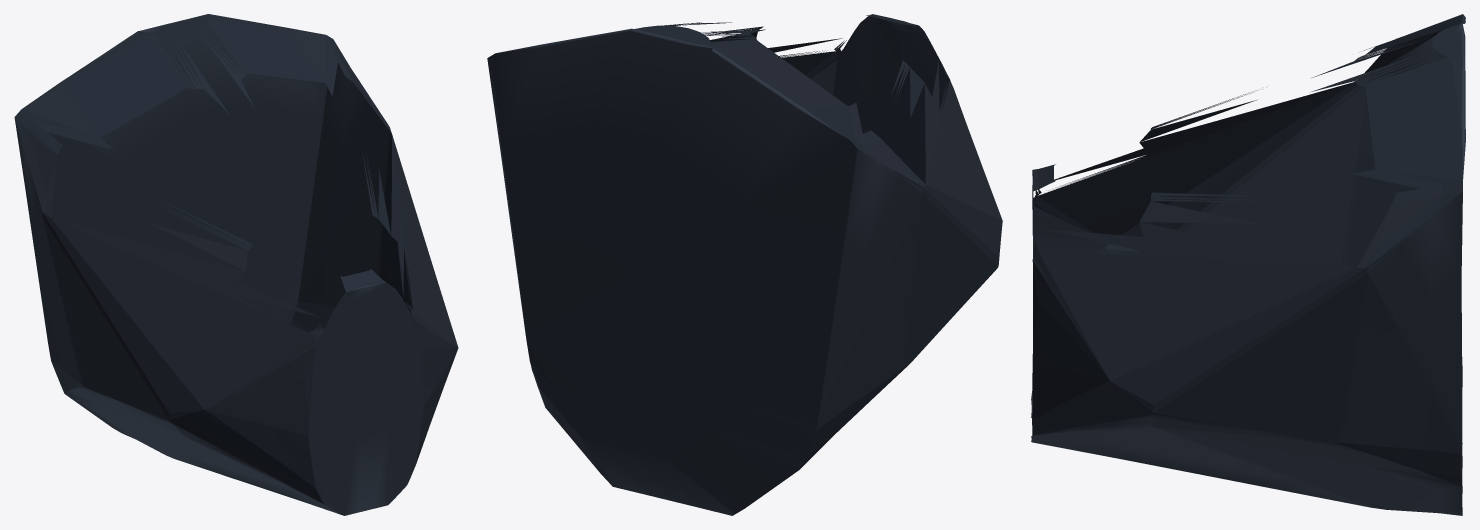
The model's file is Ship_Mule_R35_Cockpit.fbx.
3 renders of one model, left to right at view 1: azimuth 30°, elevation 25°; view 2: azimuth 150°, elevation 25°; view 3: azimuth 270°, elevation 25°, orthographic. The views are drawn at different scales.
Parts seen in each view (by area): view 1: Ship_Mule_R35_Cockpit; view 2: Ship_Mule_R35_Cockpit; view 3: Ship_Mule_R35_Cockpit.
Part boxes in pixels (box(x1,y1,x2,y2)): Ship_Mule_R35_Cockpit: box(14, 14, 458, 515); Ship_Mule_R35_Cockpit: box(487, 14, 1002, 515); Ship_Mule_R35_Cockpit: box(1031, 14, 1465, 515).
Bounding box in the file's own units: 3.59 × 3.94 × 3.48.
